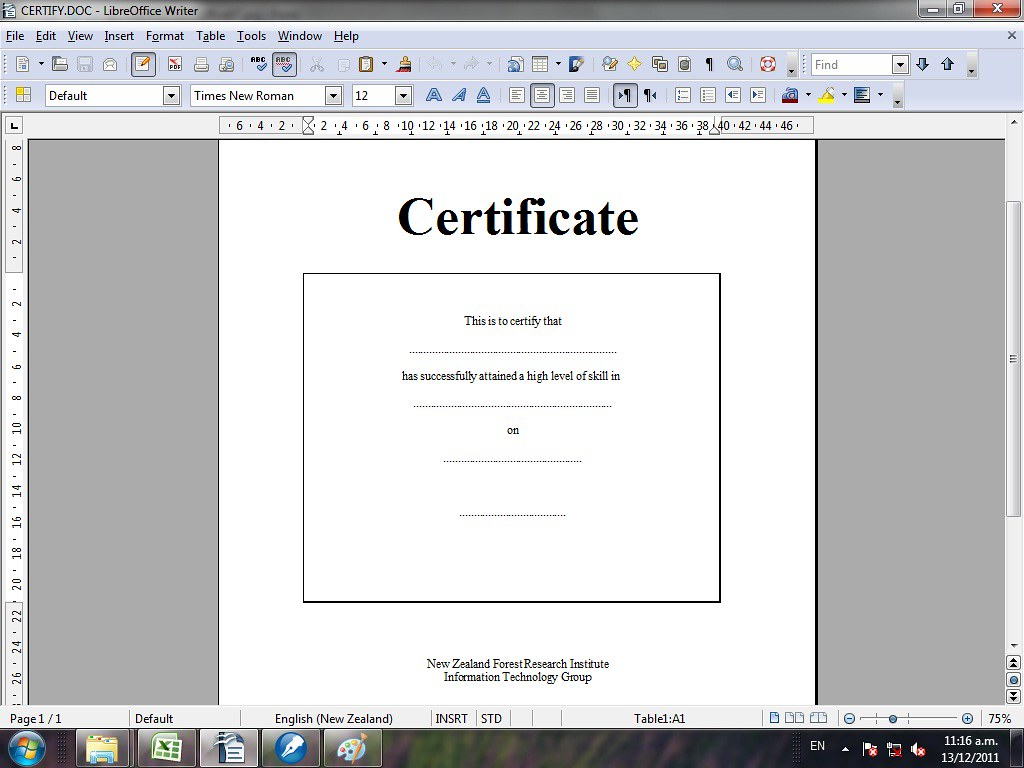button: (1, 138, 27, 704), (217, 113, 818, 136), (1004, 201, 1024, 517), (137, 729, 199, 768), (198, 729, 260, 768), (74, 728, 134, 768), (261, 729, 322, 768), (324, 729, 384, 768), (1, 729, 57, 768), (974, 1, 1023, 21), (276, 28, 324, 44), (271, 51, 298, 78), (144, 28, 189, 44), (530, 83, 556, 109), (131, 51, 156, 77), (613, 83, 639, 108), (1008, 728, 1024, 768), (193, 28, 230, 43), (102, 28, 136, 44), (235, 28, 269, 44), (66, 28, 96, 45), (641, 84, 663, 107), (918, 1, 946, 19), (947, 1, 973, 19), (332, 28, 361, 44), (34, 28, 61, 45), (3, 28, 29, 45), (4, 114, 25, 135), (884, 739, 905, 760), (530, 53, 550, 75), (307, 54, 327, 75), (506, 54, 526, 75), (758, 53, 778, 74), (907, 740, 928, 760), (394, 53, 413, 75), (461, 53, 480, 75), (394, 84, 413, 106), (567, 54, 587, 74), (817, 84, 837, 104), (860, 740, 880, 760), (50, 53, 69, 74), (248, 54, 269, 73), (725, 53, 744, 74), (892, 53, 910, 75), (806, 738, 829, 755), (75, 53, 94, 73), (600, 54, 619, 74), (650, 54, 669, 74), (163, 84, 181, 105), (325, 84, 343, 105), (853, 84, 871, 105), (892, 81, 905, 109), (1005, 112, 1024, 131), (192, 54, 211, 73), (674, 85, 693, 104), (13, 54, 31, 74), (780, 86, 800, 104), (101, 55, 120, 73), (166, 54, 184, 73), (217, 55, 236, 73), (425, 54, 443, 73), (625, 54, 643, 73), (558, 86, 576, 105), (699, 85, 717, 104), (424, 86, 444, 103), (15, 85, 33, 103), (508, 86, 526, 104), (724, 86, 742, 104), (749, 86, 767, 104), (676, 55, 693, 74), (475, 86, 492, 105), (1006, 671, 1024, 688), (583, 86, 600, 104), (1005, 639, 1024, 655), (1005, 688, 1024, 704), (358, 55, 374, 74), (914, 54, 930, 73), (1006, 655, 1023, 672), (939, 55, 956, 72), (451, 86, 468, 103), (842, 709, 858, 727), (700, 56, 716, 74), (966, 53, 978, 77), (787, 51, 797, 78), (960, 709, 975, 726), (1004, 28, 1021, 43), (337, 57, 352, 74), (885, 713, 899, 724), (838, 745, 853, 755), (35, 57, 47, 69), (802, 88, 814, 99), (552, 58, 563, 69), (839, 90, 850, 101), (483, 58, 495, 68), (874, 90, 886, 100), (448, 58, 458, 69), (380, 58, 389, 68)
common: (397, 190, 640, 241), (425, 655, 612, 685), (399, 366, 623, 386), (939, 733, 1003, 766), (273, 710, 396, 727), (461, 311, 566, 330), (7, 710, 67, 726), (631, 710, 689, 725), (132, 709, 179, 727), (434, 709, 472, 725), (480, 710, 504, 726), (504, 423, 522, 437)
container: (1, 112, 1024, 706), (218, 140, 816, 706), (303, 274, 721, 605), (1, 51, 1023, 111), (1, 730, 1024, 768), (1, 80, 906, 111), (1, 22, 1024, 48), (1, 706, 1024, 729), (1, 52, 800, 80), (1, 1, 1024, 22), (1004, 112, 1024, 656), (800, 51, 980, 79), (838, 705, 1024, 729), (191, 84, 343, 106), (45, 84, 180, 106), (813, 53, 910, 75), (764, 707, 838, 728), (352, 84, 414, 107), (852, 82, 888, 107), (460, 52, 497, 75), (13, 53, 48, 75), (426, 53, 459, 76), (530, 53, 564, 75), (358, 53, 391, 75), (819, 84, 852, 104), (780, 86, 814, 105)
header: (1, 1, 203, 20)
image: (783, 710, 806, 724), (809, 710, 829, 724), (768, 710, 781, 725)
text-input: (190, 85, 325, 106), (44, 84, 163, 106), (811, 53, 893, 75), (352, 85, 395, 107), (985, 711, 1016, 726)
